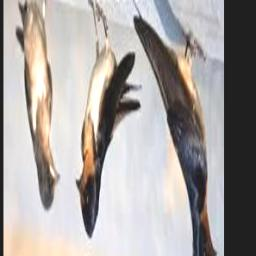Swallow: (133, 16, 217, 256), (75, 0, 141, 238), (16, 0, 59, 209)
